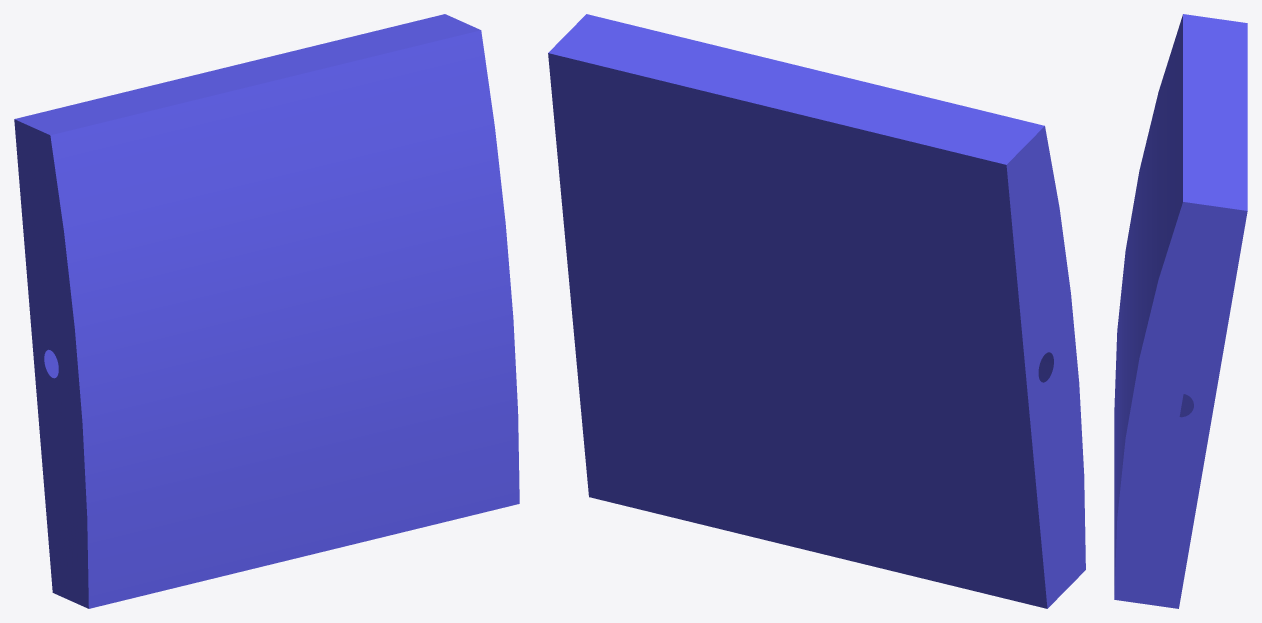
The model's file is original-12.obj.
3 views of the same model, side by side, from view 1: azimuth 30°, elevation 25°; view 2: azimuth 150°, elevation 25°; view 3: azimuth 270°, elevation 25° (orthographic). The views are drawn at different scales.
Visible parts, largest first — view 1: #ID63; view 2: #ID63; view 3: #ID63.
Boxes of the visible parts, <box> form: #ID63: <box>14,14,519,608</box>; #ID63: <box>548,14,1085,608</box>; #ID63: <box>1114,14,1247,608</box>.
Bounding box in the file's own units: 0.6752 × 0.6824 × 0.2026.
